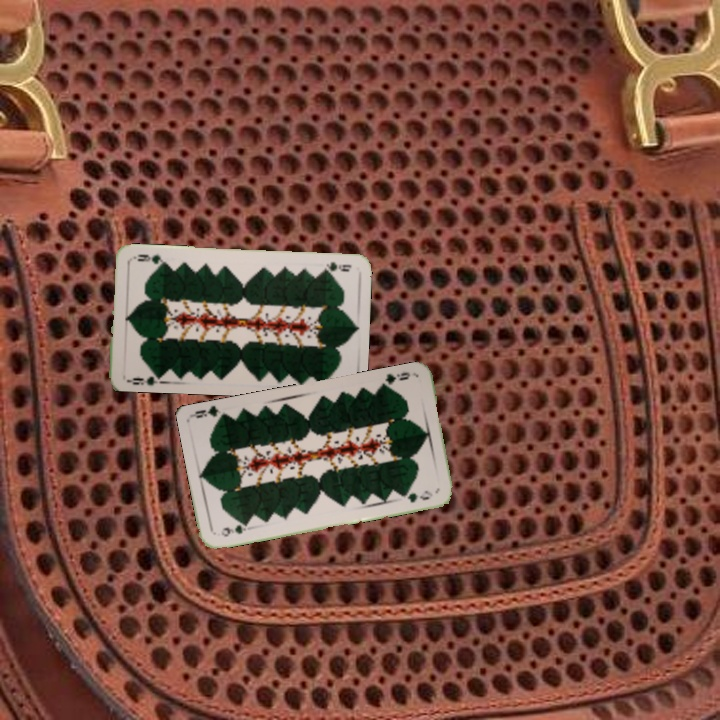G9: (377, 368, 413, 391), (123, 368, 163, 388), (217, 519, 254, 539), (318, 258, 354, 274)
